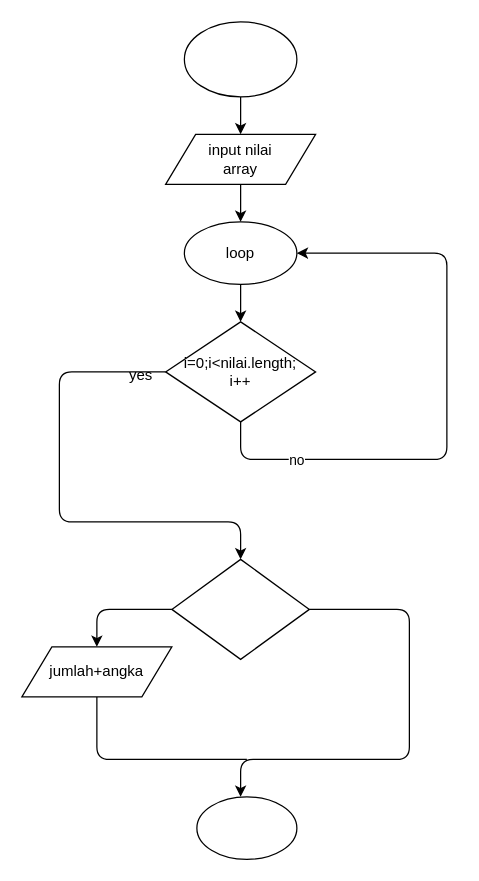
Image size: 479x881. Some labels were removed from this diagram. Here are the shapes that lost their labels. From the top down, the box of each, then its label:
(183, 21, 297, 97): START
(171, 558, 309, 659): angka:nilai
